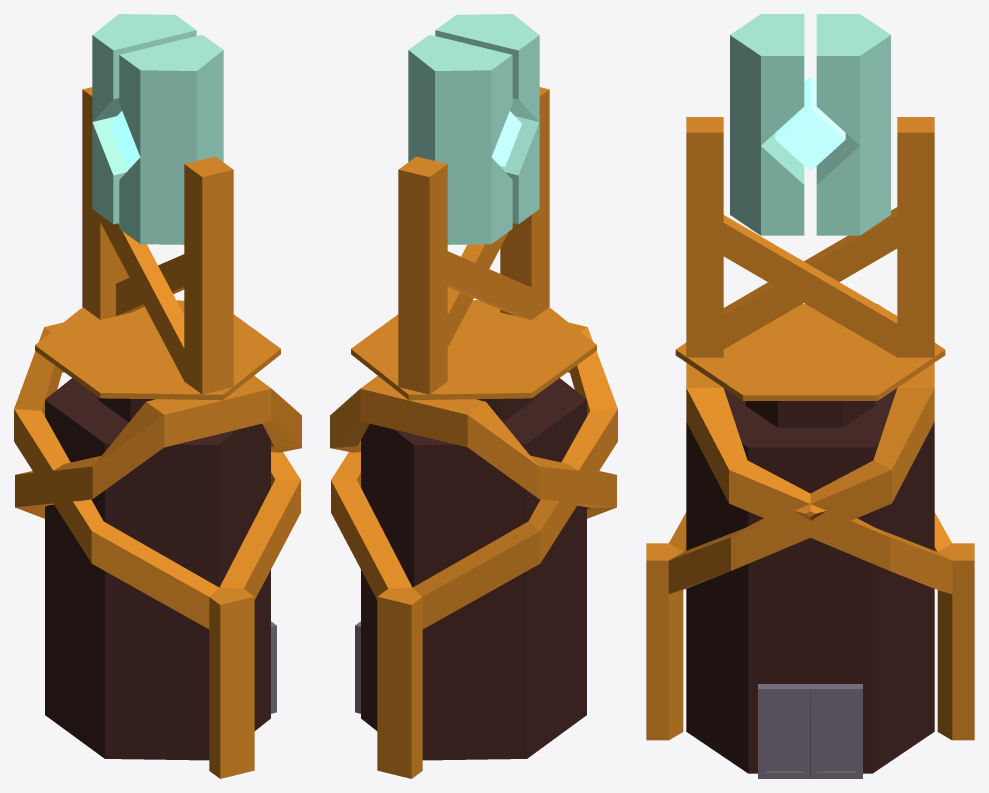
Rendered from stadstad_0.1.fbx.
3 views of the same model, side by side, from view 1: azimuth 30°, elevation 25°; view 2: azimuth 150°, elevation 25°; view 3: azimuth 270°, elevation 25° (orthographic). The views are drawn at different scales.
Parts seen in each view (by area): view 1: bas, Strukturgrej, hold things AND SPIN, canon thing, Cube, doooor; view 2: bas, Strukturgrej, hold things AND SPIN, canon thing, Cube, doooor; view 3: bas, hold things AND SPIN, Strukturgrej, canon thing, doooor, Cube.
Part boxes in pixels (bbox=[...]): bas: bbox=[45, 378, 270, 760]; Strukturgrej: bbox=[14, 322, 301, 778]; hold things AND SPIN: bbox=[35, 87, 280, 400]; canon thing: bbox=[92, 14, 223, 244]; Cube: bbox=[110, 111, 140, 166]; doooor: bbox=[271, 621, 276, 713]; bas: bbox=[361, 378, 586, 760]; Strukturgrej: bbox=[330, 322, 617, 778]; hold things AND SPIN: bbox=[351, 87, 596, 400]; canon thing: bbox=[408, 14, 539, 244]; Cube: bbox=[491, 111, 521, 166]; doooor: bbox=[355, 621, 360, 713]; bas: bbox=[686, 388, 934, 773]; hold things AND SPIN: bbox=[675, 117, 945, 400]; Strukturgrej: bbox=[646, 363, 974, 740]; canon thing: bbox=[730, 14, 890, 235]; doooor: bbox=[758, 684, 862, 778]; Cube: bbox=[775, 76, 845, 171].
Size of the model in its own units: 10.28 by 31 by 13.24.
